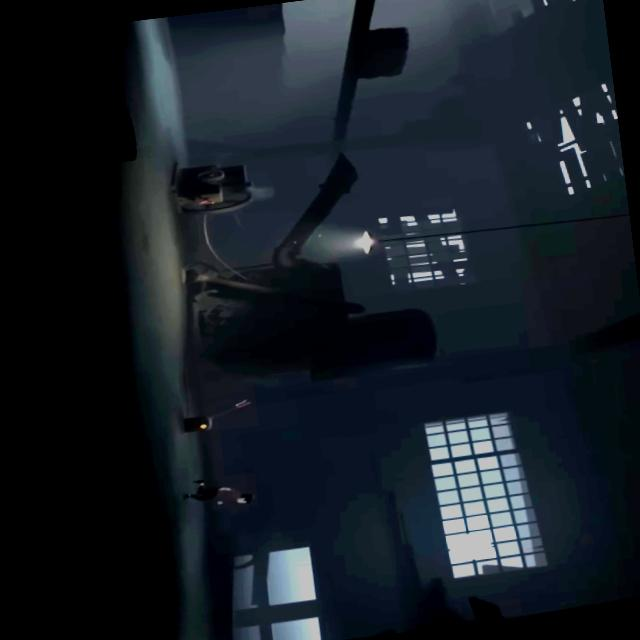boy: (184, 476, 253, 510)
